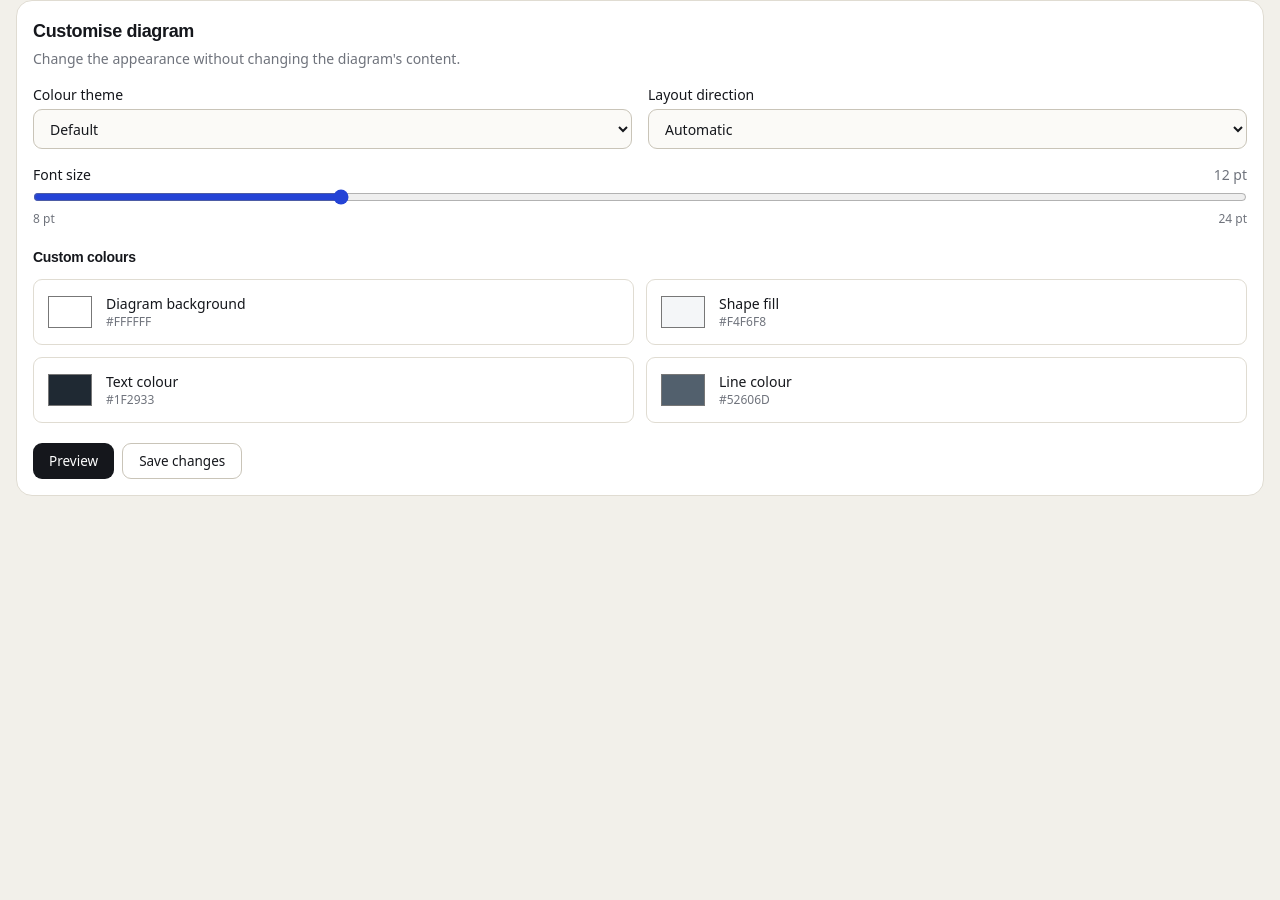
Test: StylePanel › closes the low-contrast warning when any setting changes
expect the heading "Customise diagram" is shown: met, box [33,21,194,41]
Type "#ffffff" into the colour field named "Text colour" at (70,390), box [46,370,94,410]
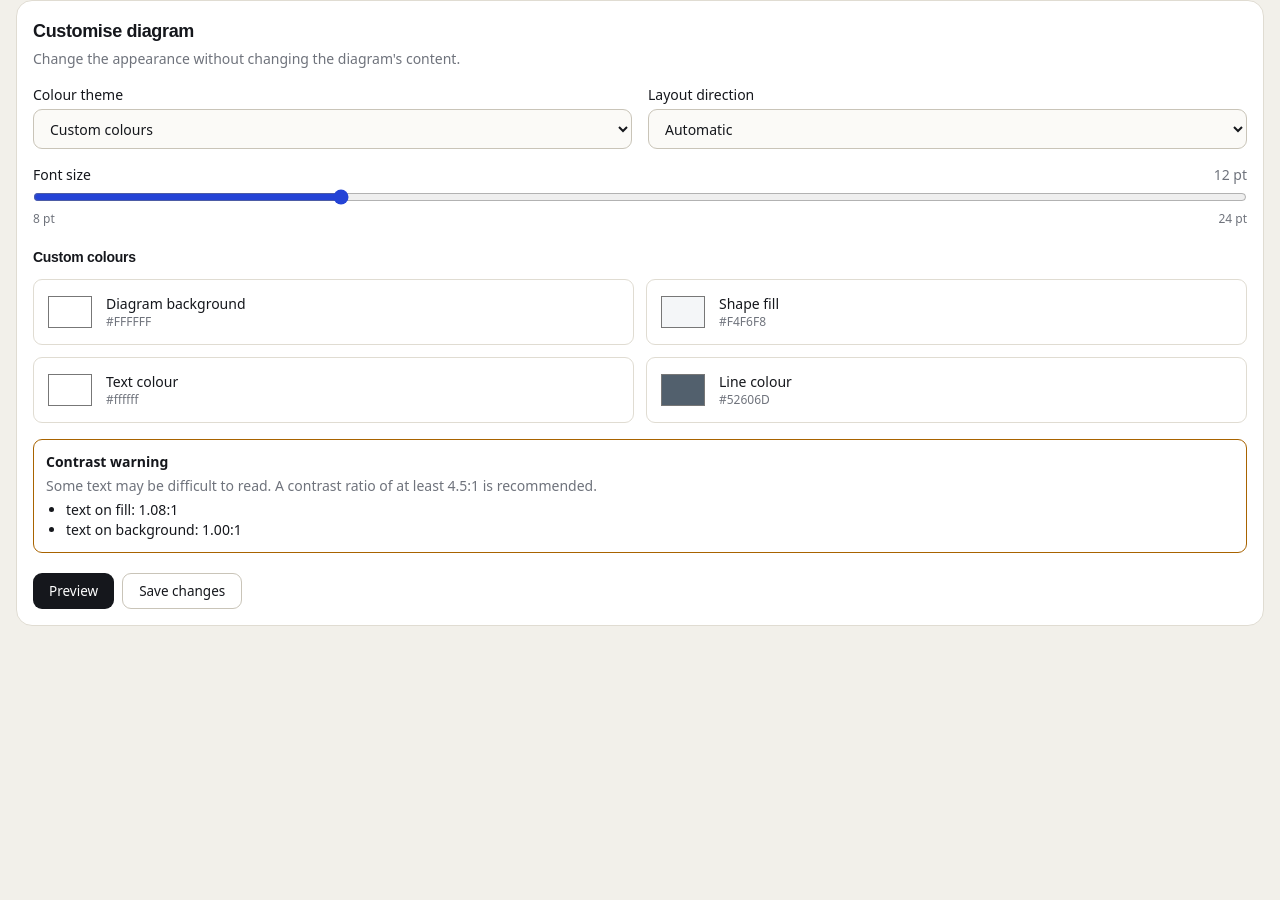
Click the button "Save changes" at (182,591), box [122,573,242,609]
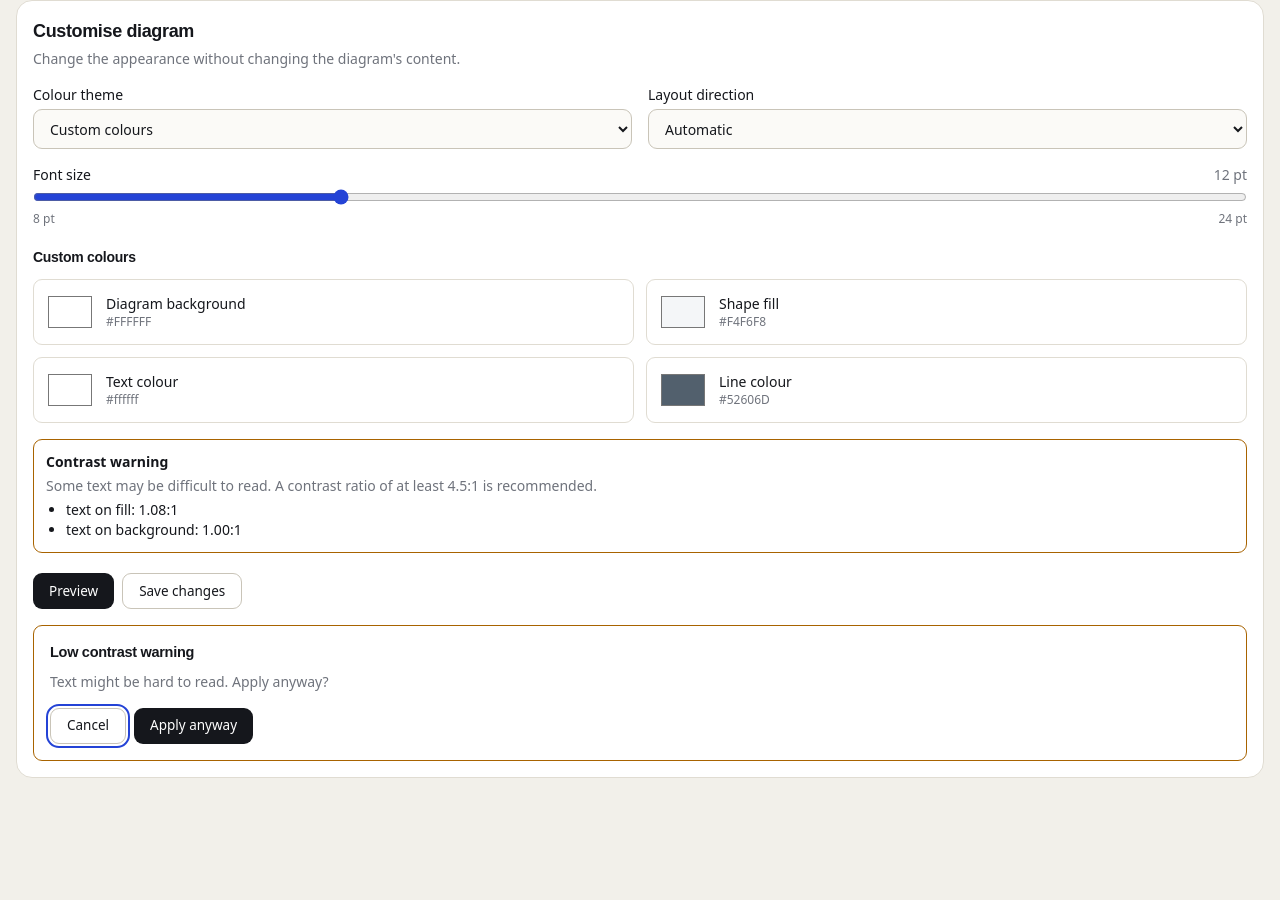
expect the dialog "Low contrast warning" is shown: met, box [33,625,1247,761]
Set the slider labelled "Font size" to "18" at (790,197), box [33,189,1247,205]
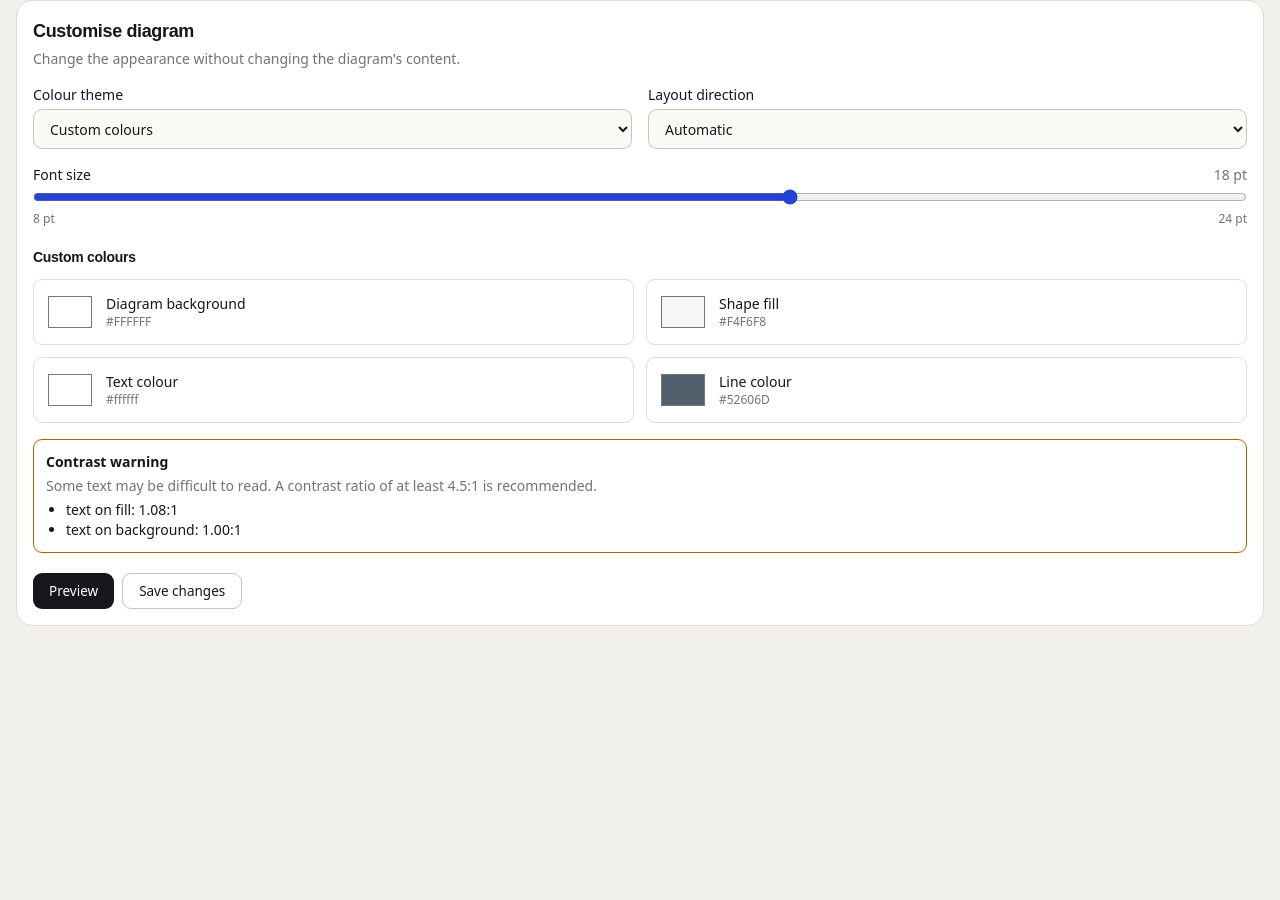
expect the dialog is gone: met
